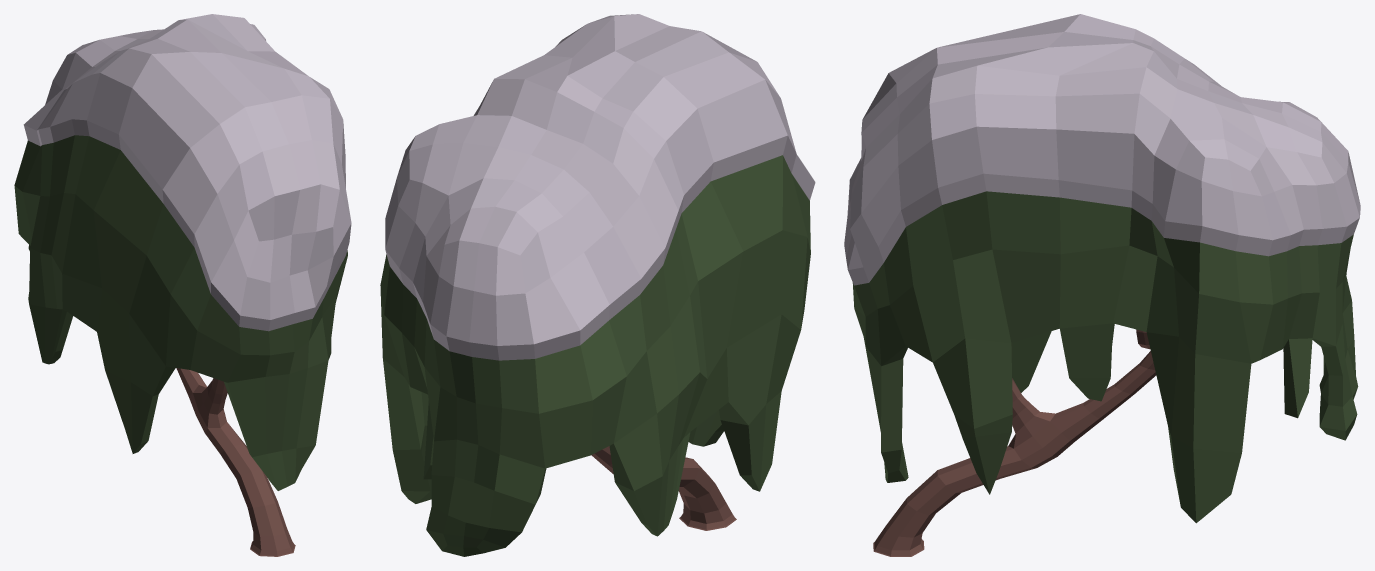
The model's file is willow_snow_2.glb.
3 views of the same model, side by side, from view 1: azimuth 30°, elevation 25°; view 2: azimuth 150°, elevation 25°; view 3: azimuth 270°, elevation 25° (orthographic). The views are drawn at different scales.
Visible parts, largest first — view 1: Willow_Snow_2; view 2: Willow_Snow_2; view 3: Willow_Snow_2.
Boxes of the visible parts, x1,y1,x2,y2 form: Willow_Snow_2: (14,14,351,556); Willow_Snow_2: (380,14,815,556); Willow_Snow_2: (844,14,1360,556).
Size of the model in its own units: 4.89 by 8.66 by 7.91.
